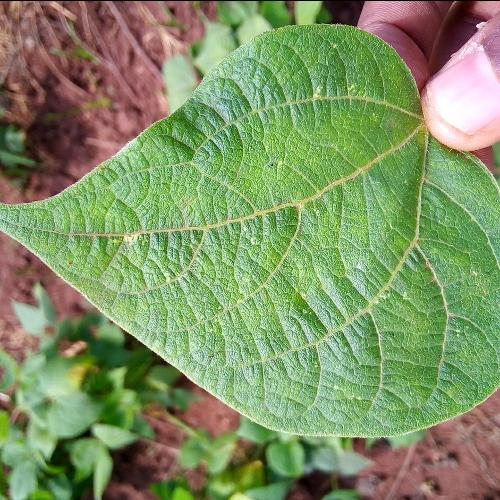sehat: (110, 69, 482, 457)
